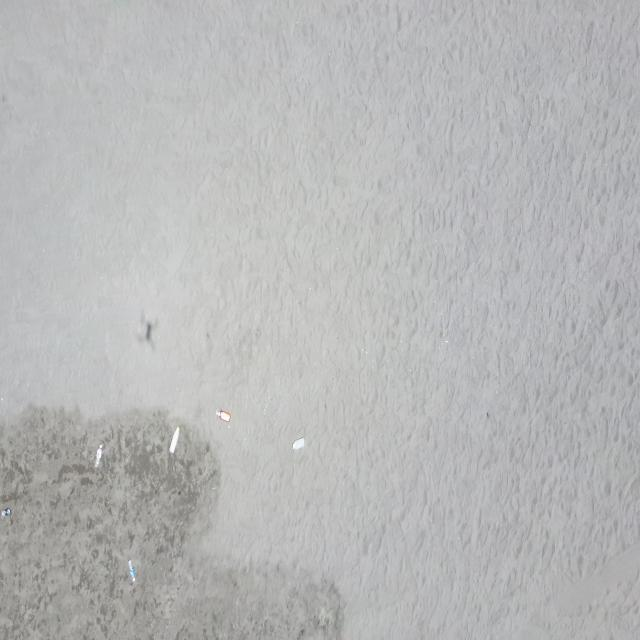plastic-bottle: (168, 426, 180, 455), (94, 442, 103, 471), (127, 558, 137, 584), (214, 408, 232, 422), (290, 437, 306, 452), (0, 508, 11, 519)
